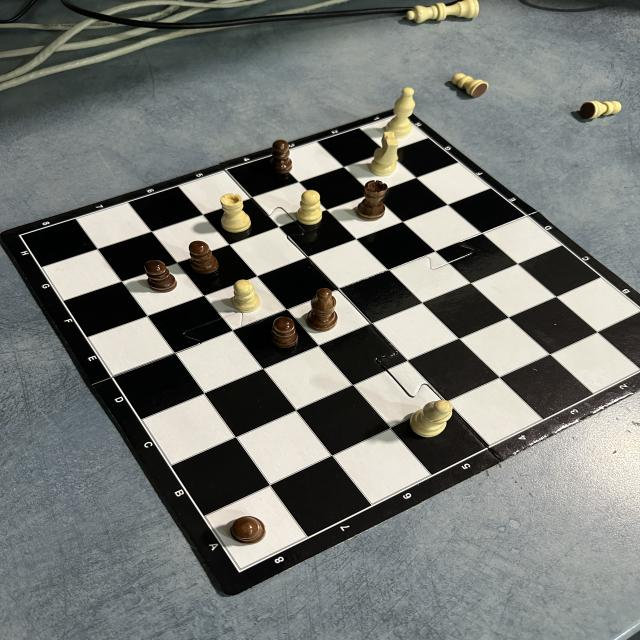Black-Bishop: (307, 288, 340, 332)
Black-Pawn: (144, 260, 178, 294), (188, 240, 220, 275), (230, 516, 266, 546), (271, 315, 300, 349), (270, 140, 293, 174)
Black-Rook: (355, 180, 389, 221)
White-Bishop: (409, 399, 454, 438), (383, 86, 417, 136)
White-Knight: (368, 131, 400, 177)
White-Pawn: (450, 72, 490, 99), (295, 190, 324, 226), (232, 279, 261, 313), (578, 100, 622, 120)
White-Queen: (404, 0, 481, 24)
White-Rook: (220, 193, 252, 234)
